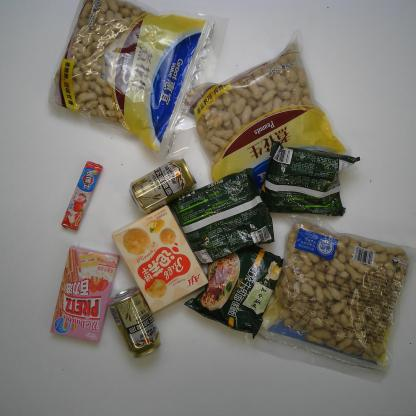Alcohol: (128, 155, 199, 214), (107, 284, 162, 359)
Candy: (62, 158, 105, 232)
Dessert: (110, 203, 210, 314), (48, 244, 120, 344)
Dried Food: (179, 27, 356, 200), (242, 208, 415, 384), (45, 0, 230, 164)
Instant Noodles: (170, 168, 276, 266), (182, 240, 284, 340), (260, 140, 361, 218)
